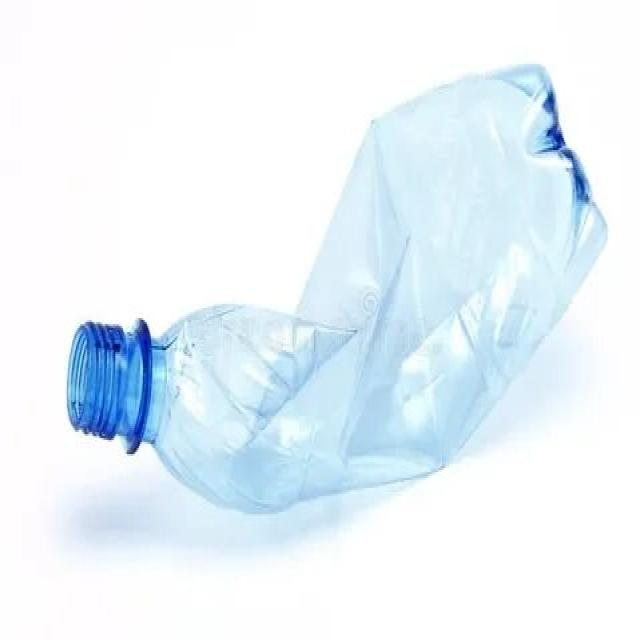blue: (64, 60, 606, 517)
